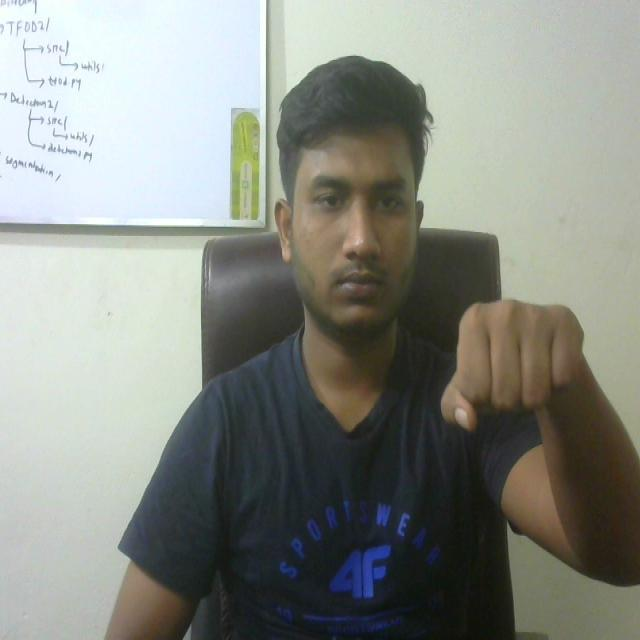Yes: (426, 286, 594, 448)
